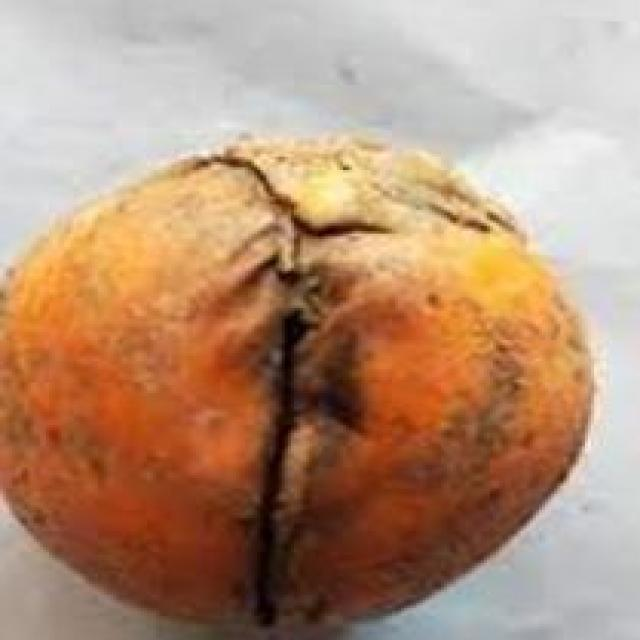damaged: (0, 135, 603, 637)
